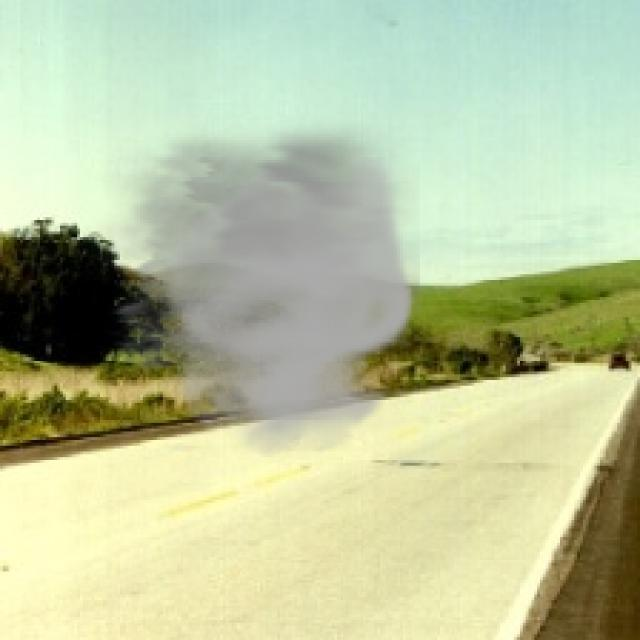Smoke: (74, 112, 420, 457)
